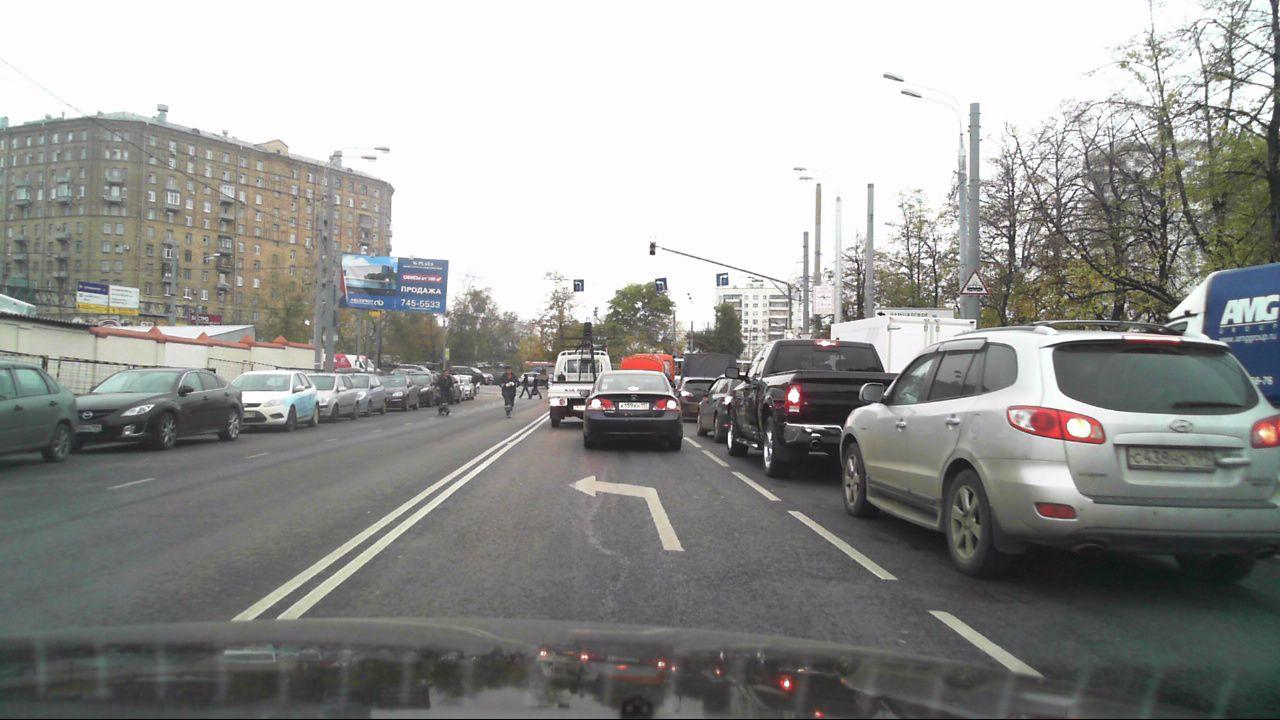1_5: (959, 267, 990, 295)
5_15_2: (653, 278, 671, 294), (714, 272, 730, 287), (572, 278, 585, 292)
